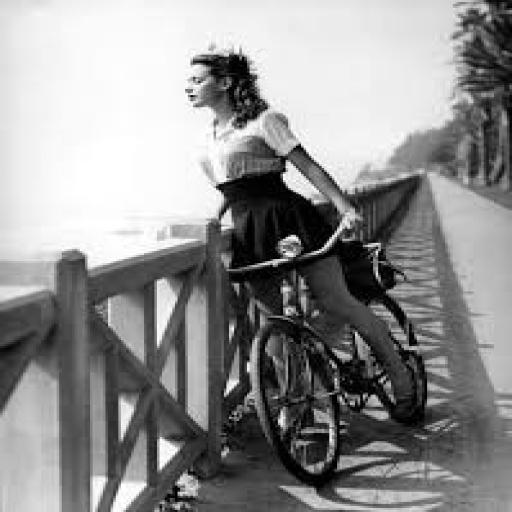cycling: (180, 45, 430, 431)
